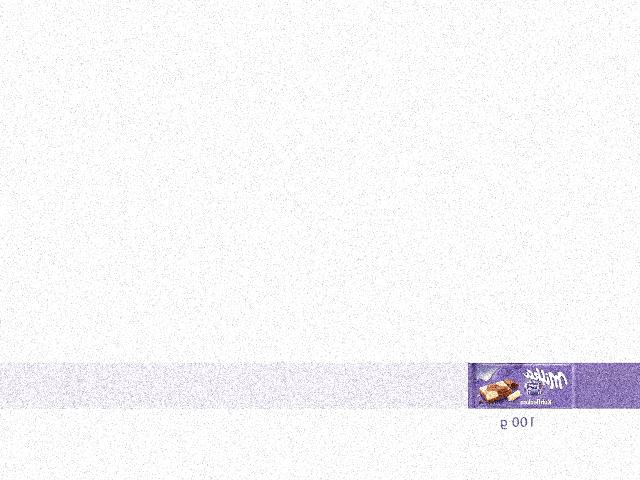chocolate: (467, 362, 578, 410)
